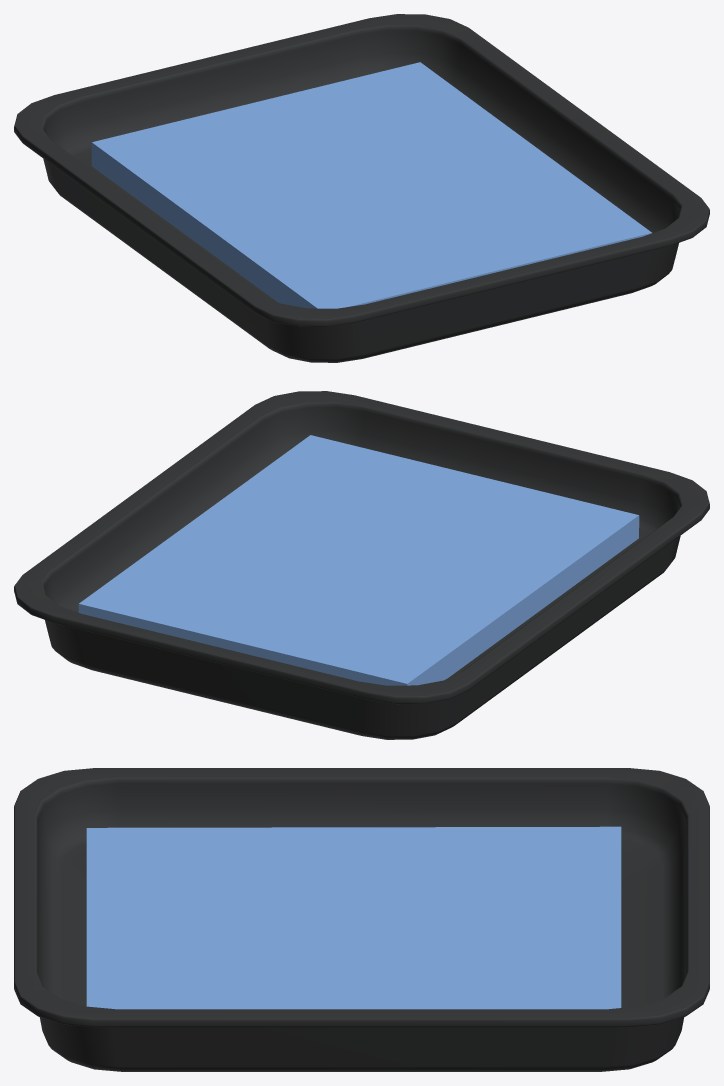
File: nampan2.fbx
The picture shows the model from 3 angles, top to bottom: view 1: azimuth 30°, elevation 25°; view 2: azimuth 150°, elevation 25°; view 3: azimuth 270°, elevation 25°; orthographic projection. The views are drawn at different scales.
Parts seen in each view (by area): view 1: Cube, Tray; view 2: Cube, Tray; view 3: Tray, Cube.
Part boxes in pixels (<box>): Cube: <box>91,62,651,308</box>; Tray: <box>14,14,709,362</box>; Cube: <box>78,435,639,685</box>; Tray: <box>14,391,709,739</box>; Tray: <box>14,768,709,1071</box>; Cube: <box>86,826,621,1009</box>.
Size of the model in its own units: 48.97 by 6.45 by 57.27.
